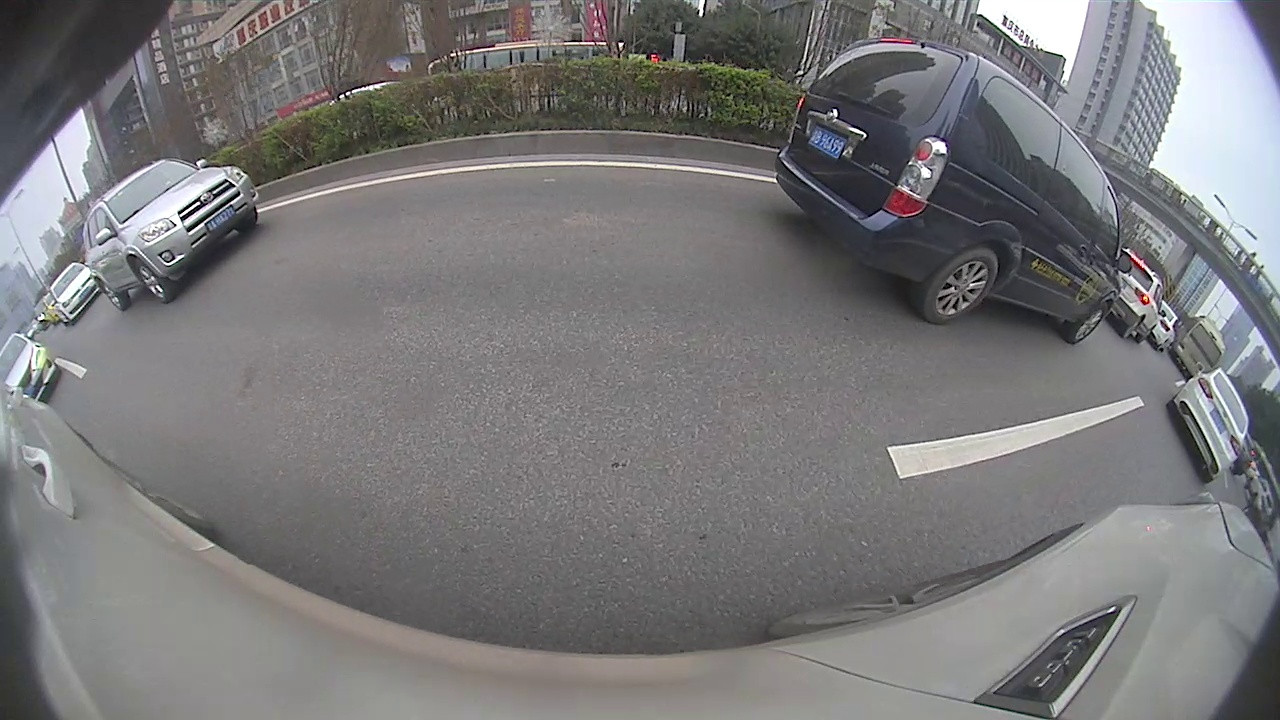car: (775, 45, 1132, 345), (82, 160, 260, 313), (1167, 368, 1252, 484)
front: (127, 255, 172, 301), (1066, 303, 1105, 344)
rear: (924, 248, 999, 323)
